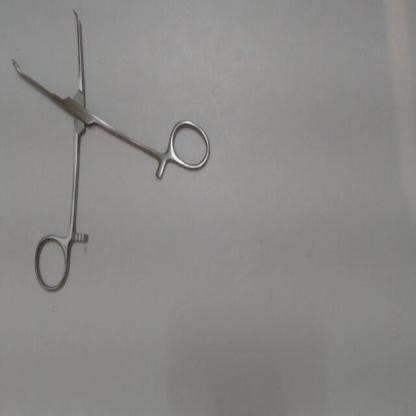Allis Tissue Forceps: (5, 3, 217, 297)
